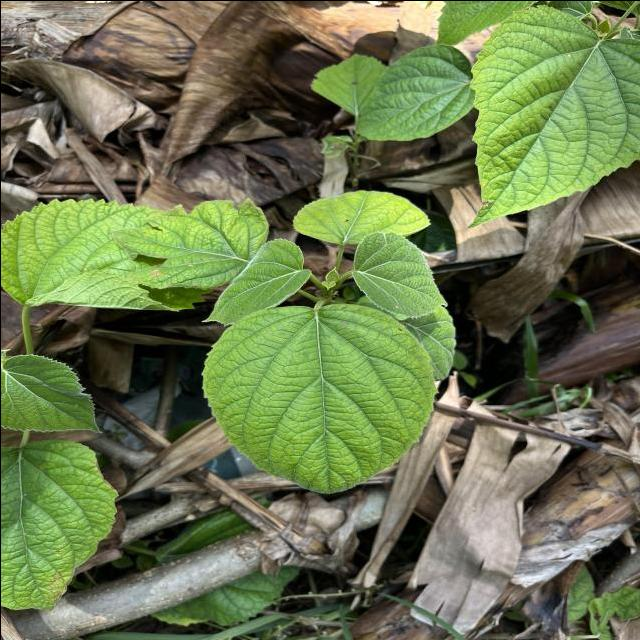Clerodendrum infortunatum: (198, 301, 437, 495), (466, 2, 640, 232), (0, 194, 221, 312), (0, 436, 119, 612), (352, 42, 474, 142), (200, 236, 311, 326), (349, 230, 448, 318), (0, 352, 104, 434), (291, 188, 431, 245)
